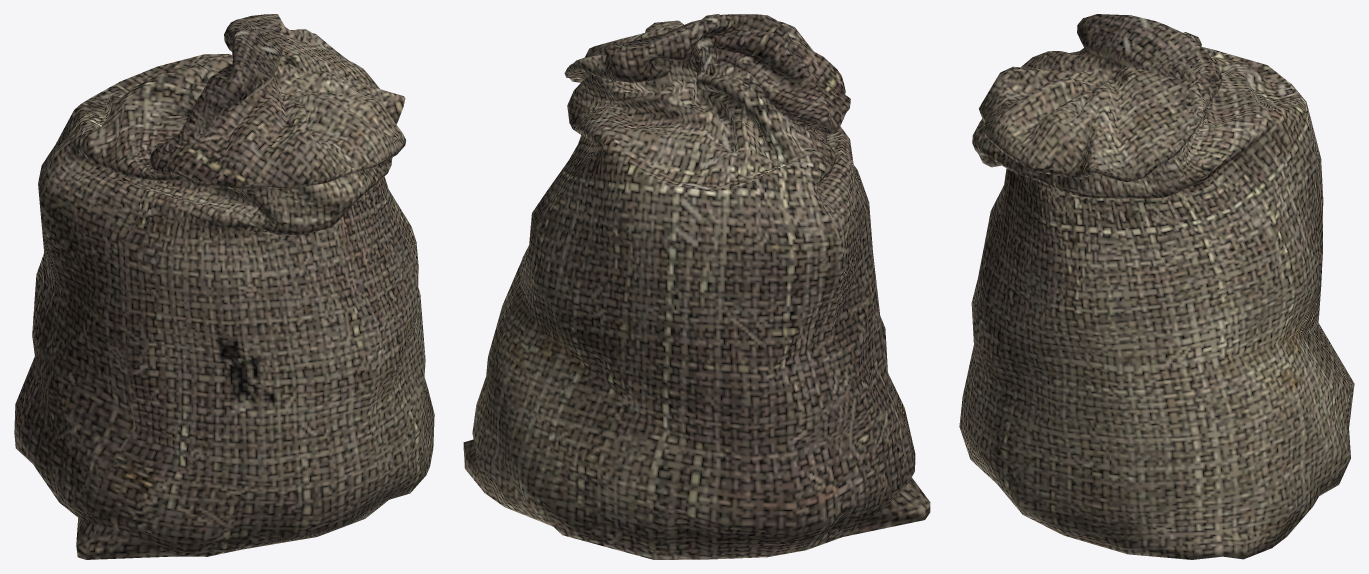
The model's file is Bag0.fbx.
3 renders of one model, left to right at view 1: azimuth 30°, elevation 25°; view 2: azimuth 150°, elevation 25°; view 3: azimuth 270°, elevation 25°, orthographic. The views are drawn at different scales.
Visible parts, largest first — view 1: LV_Migdal_Aset_Bag01_SM_KJS; view 2: LV_Migdal_Aset_Bag01_SM_KJS; view 3: LV_Migdal_Aset_Bag01_SM_KJS.
Boxes of the visible parts, x1,y1,x2,y2 form: LV_Migdal_Aset_Bag01_SM_KJS: (14,14,434,559); LV_Migdal_Aset_Bag01_SM_KJS: (463,14,930,559); LV_Migdal_Aset_Bag01_SM_KJS: (959,14,1354,559).
Bounding box in the file's own units: 0.6804 × 0.7777 × 0.6045.
Materials: 1 (1 with a texture image).
